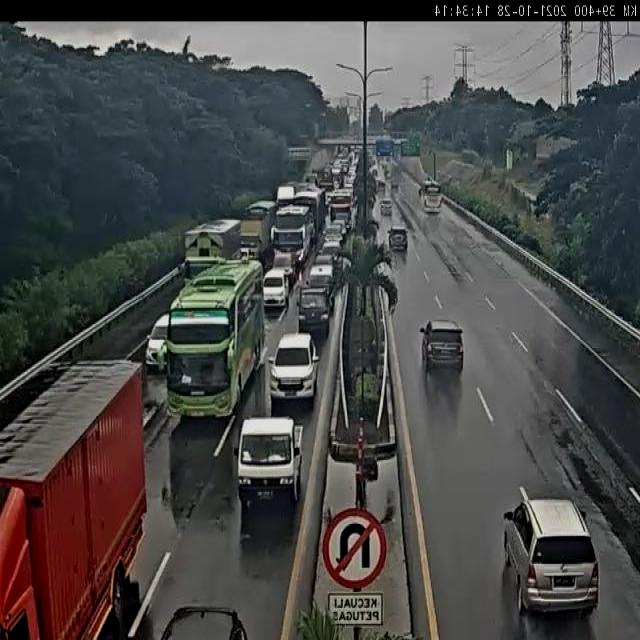Bus: (166, 264, 256, 426)
Car: (503, 490, 598, 614), (235, 414, 303, 516), (268, 331, 320, 409), (421, 318, 465, 372), (297, 288, 332, 340), (146, 313, 172, 371), (262, 267, 292, 314), (321, 223, 345, 256), (333, 252, 352, 288), (388, 226, 408, 252), (336, 163, 348, 186), (344, 176, 357, 196), (339, 215, 352, 234), (380, 198, 392, 216), (312, 173, 322, 187), (376, 175, 386, 188), (391, 180, 399, 190)
Truck: (0, 360, 150, 637), (184, 220, 243, 277), (273, 200, 315, 269), (242, 201, 279, 266), (424, 176, 442, 217), (280, 181, 312, 200), (316, 165, 336, 191)
